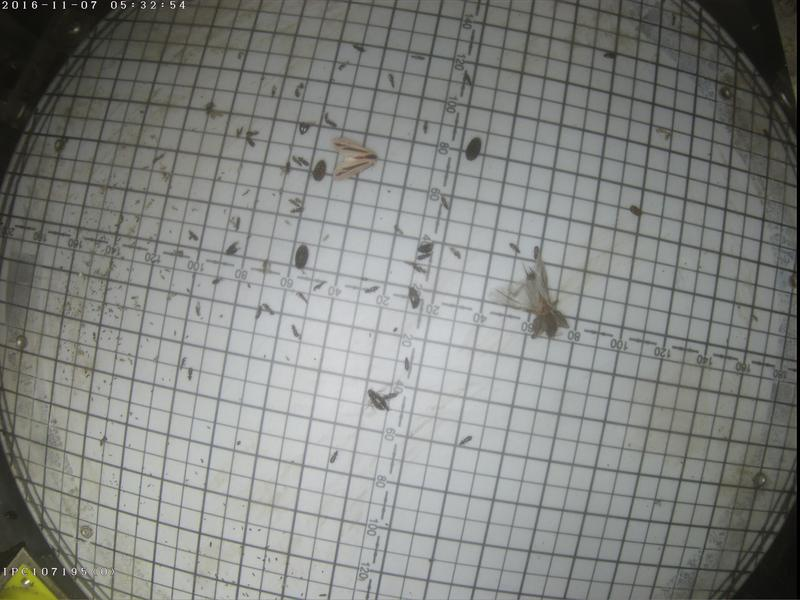Gryllotalpa orientalis: (487, 255, 571, 340)
